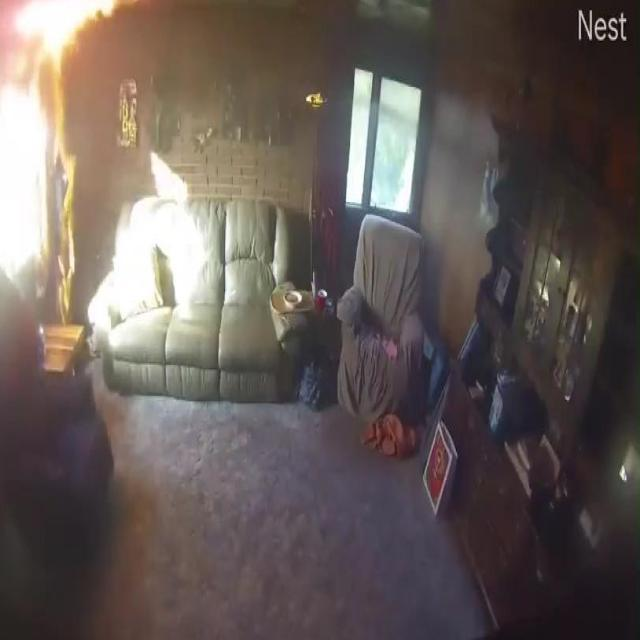smoke: (5, 0, 120, 69), (46, 70, 76, 319)
